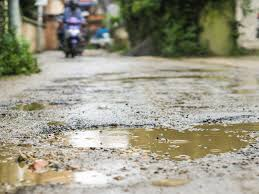pothole: (65, 122, 259, 160), (4, 142, 56, 189)
